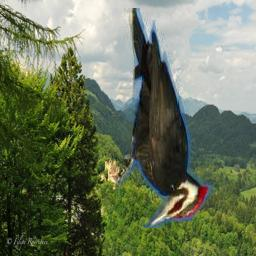Woodpecker: (116, 8, 214, 228)
